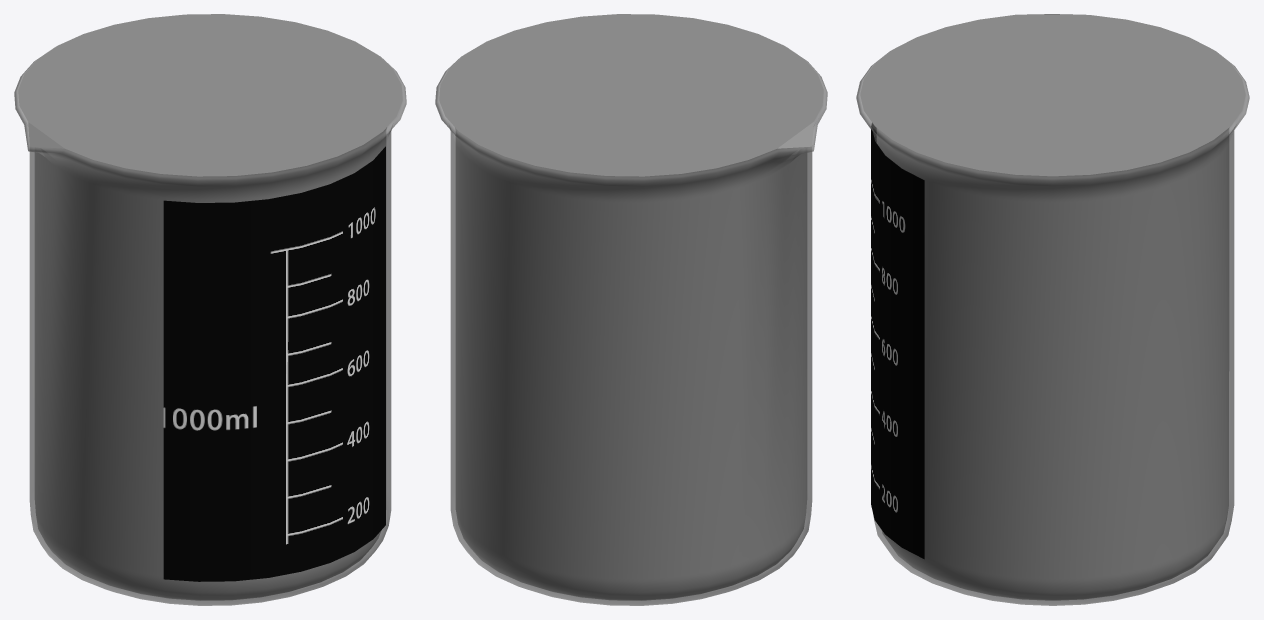
Rendered from beaker_1000ml.FBX.
The picture shows the model from 3 angles, left to right: view 1: azimuth 30°, elevation 25°; view 2: azimuth 150°, elevation 25°; view 3: azimuth 270°, elevation 25°; orthographic projection.
Parts seen in each view (by area): view 1: beaker_1000ml_liquid, beaker_1000ml_label, beaker_1000ml_body; view 2: beaker_1000ml_liquid, beaker_1000ml_body; view 3: beaker_1000ml_liquid, beaker_1000ml_body, beaker_1000ml_label.
Boxes of the visible parts, x1,y1,x2,y2 form: beaker_1000ml_liquid: [18, 14, 402, 600]; beaker_1000ml_label: [163, 146, 385, 581]; beaker_1000ml_body: [14, 47, 406, 605]; beaker_1000ml_liquid: [439, 14, 823, 600]; beaker_1000ml_body: [435, 47, 827, 605]; beaker_1000ml_liquid: [860, 14, 1245, 600]; beaker_1000ml_body: [856, 50, 1249, 605]; beaker_1000ml_label: [871, 123, 924, 559].
Size of the model in its own units: 11.9 by 14.4 by 11.5.
